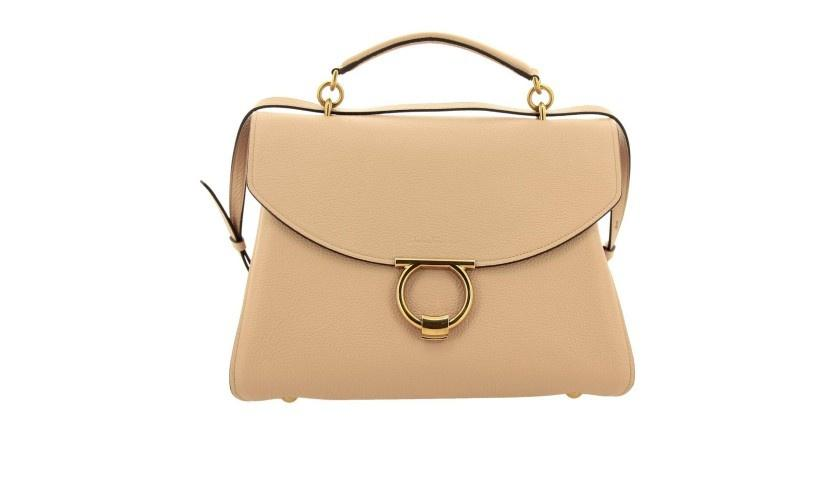FERRAGAMO: (385, 239, 489, 346)
